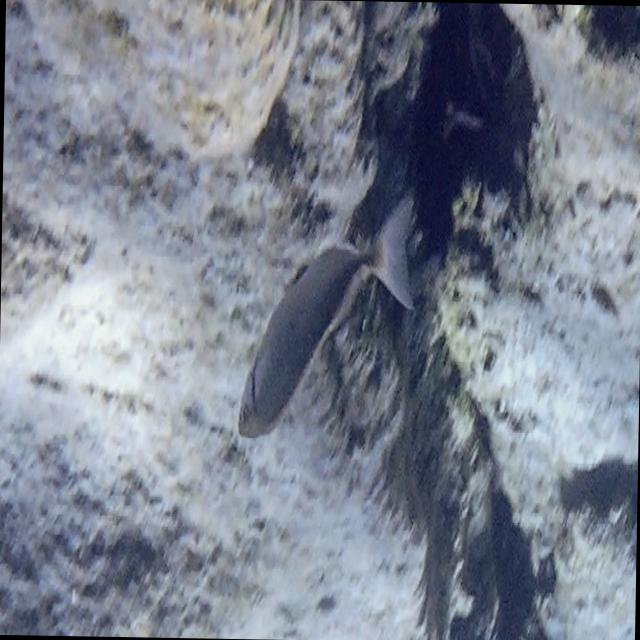Sokar Baligi: (219, 168, 426, 478)
